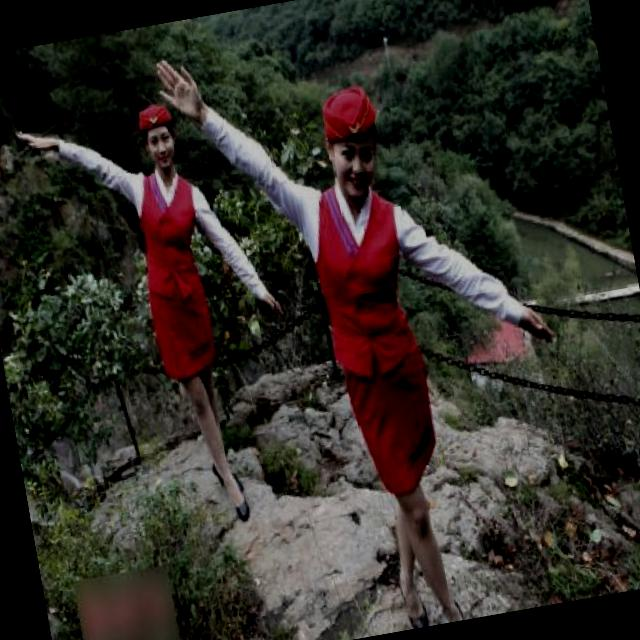Person: (140, 46, 561, 633)
